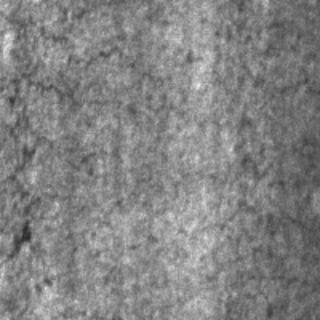crazing: (0, 6, 156, 110), (10, 132, 154, 216)
